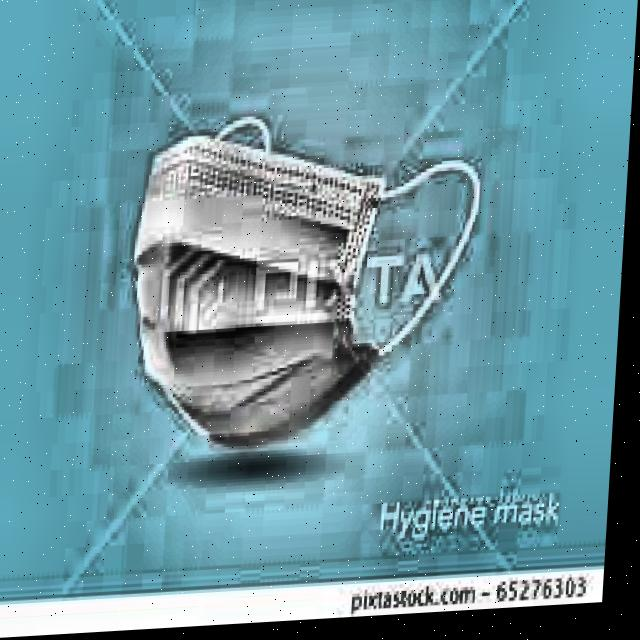trash: (120, 101, 481, 459)
